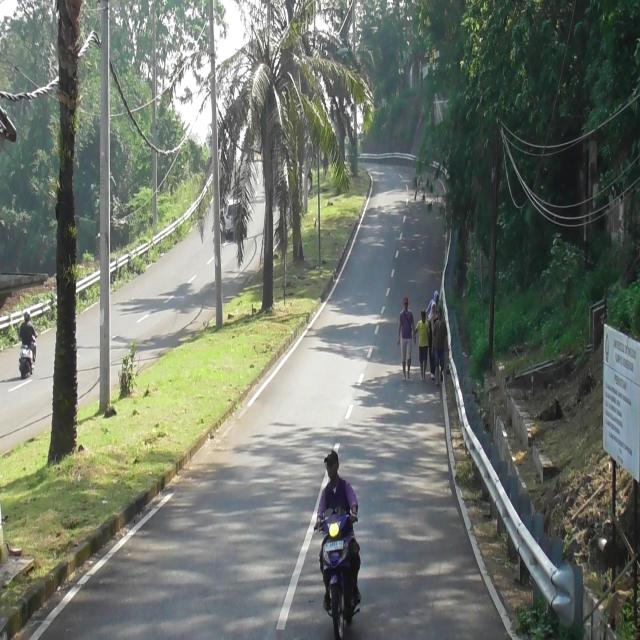motorcycle: (316, 514, 360, 639), (18, 346, 34, 380)
person: (317, 449, 362, 609), (17, 307, 37, 349)
rider_region: (316, 442, 364, 632), (19, 300, 36, 383)
